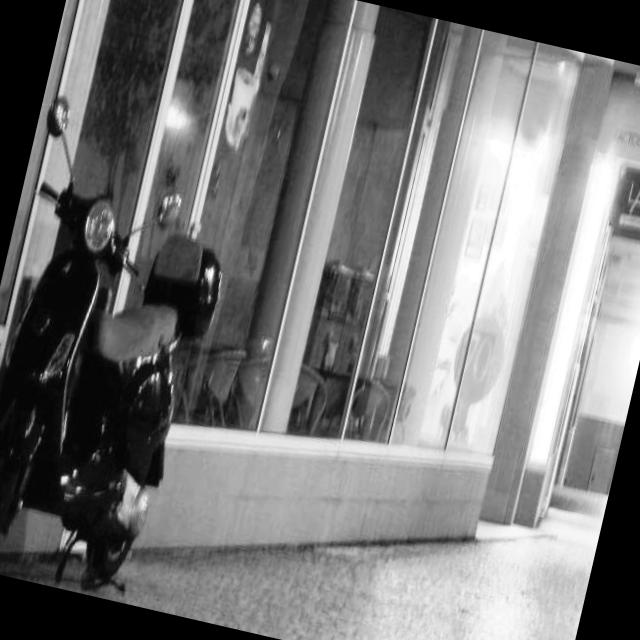Motorcycle: (0, 81, 259, 608)
